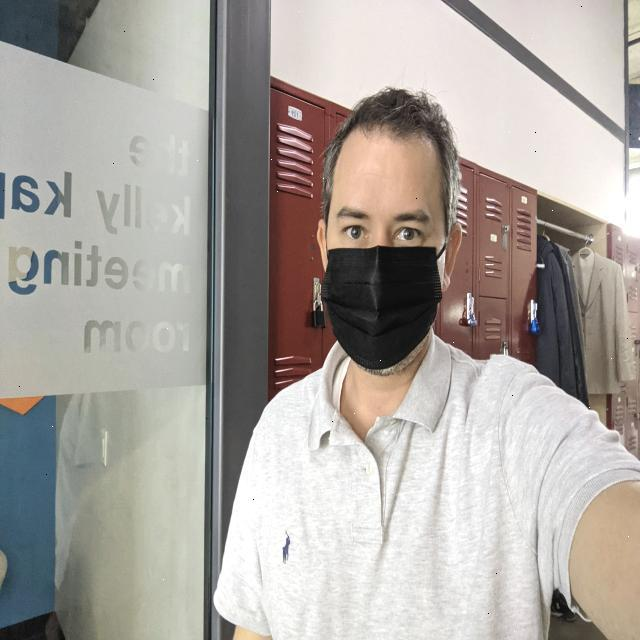1_mascarilla: (319, 247, 447, 370)
